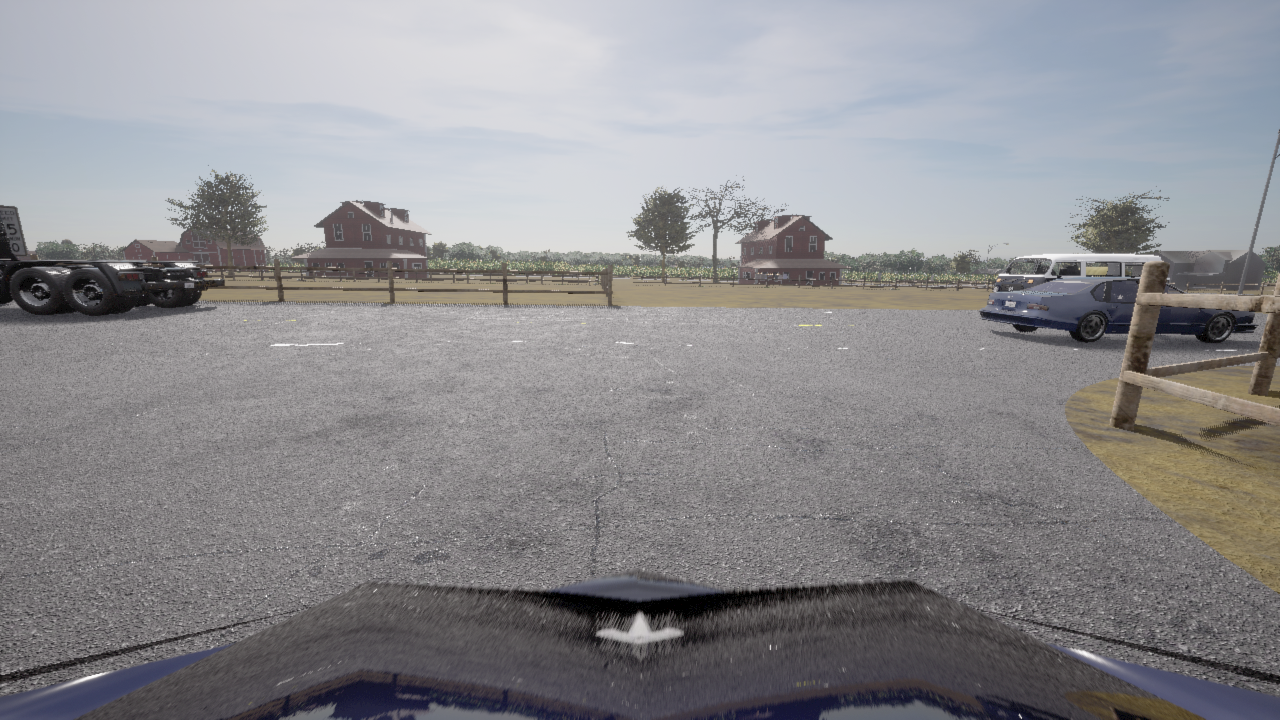cyclist: (0, 569, 1279, 719), (979, 276, 1257, 342), (993, 253, 1169, 292)
